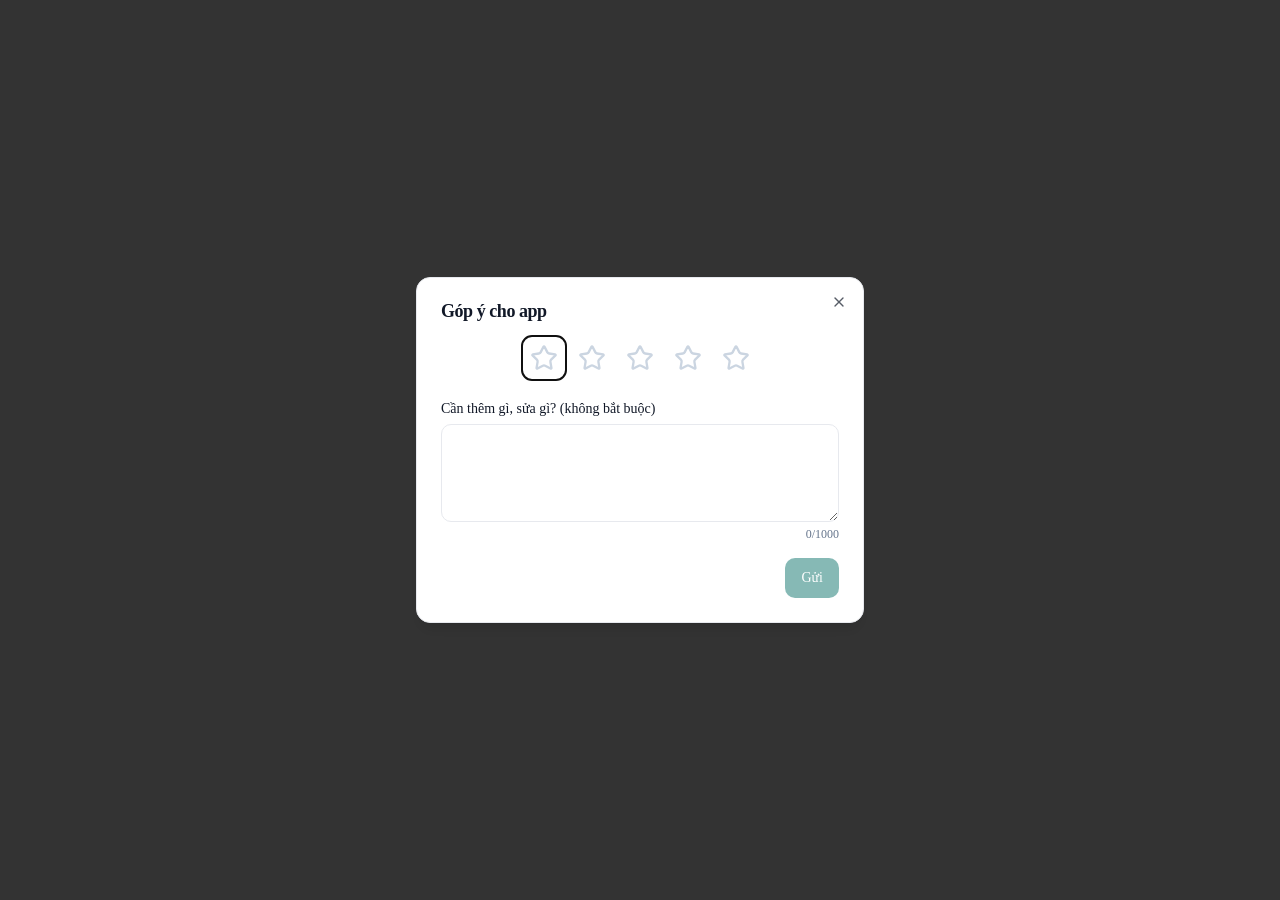
FeedbackDialog › đếm ký tự, tối đa 1000
In the text box labelled "Cần thêm gì, sửa gì? (không bắt buộc)": [640, 473] box [441,424,839,522], type "abc"
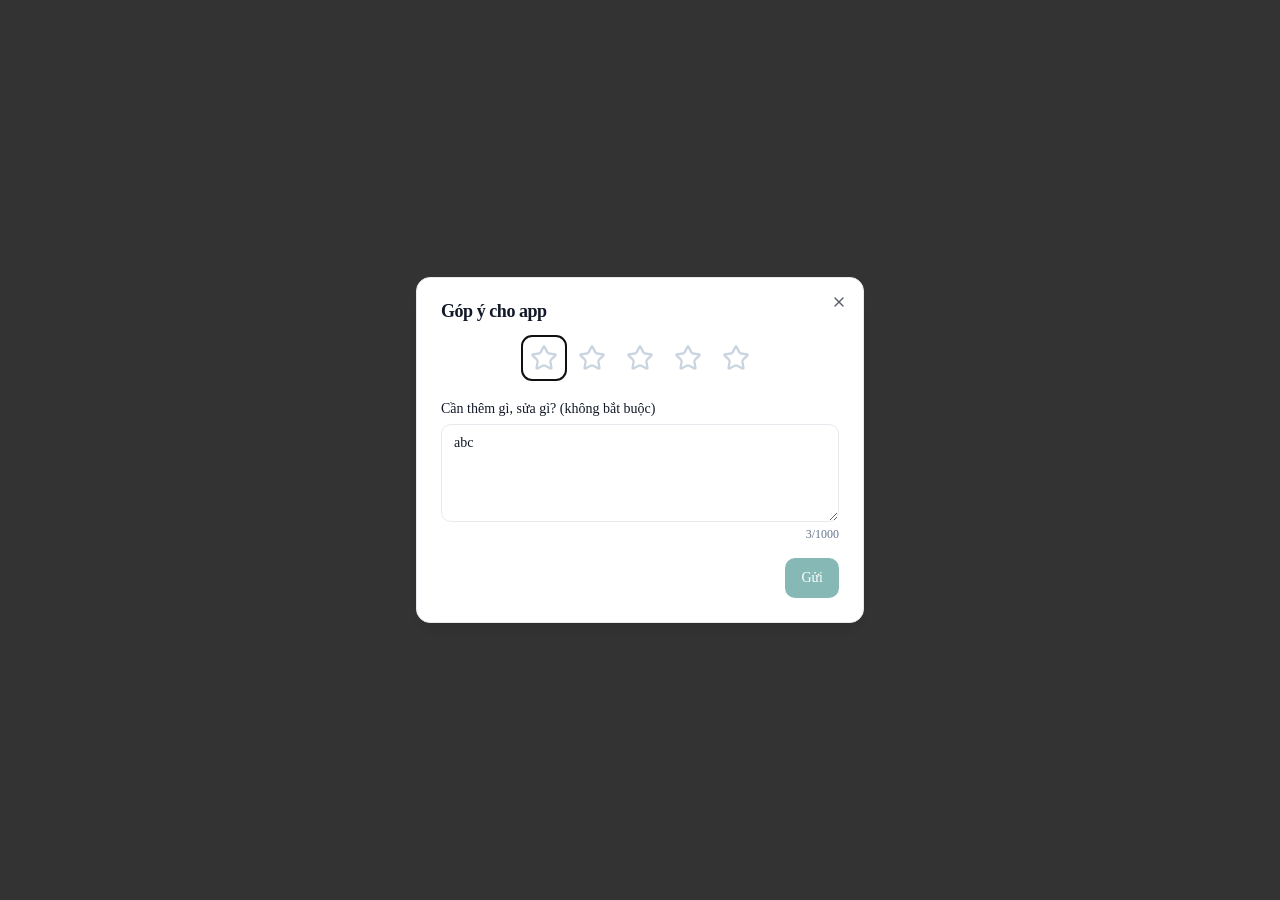
Result: the text "3/1000" is shown at [806,527,839,541]
